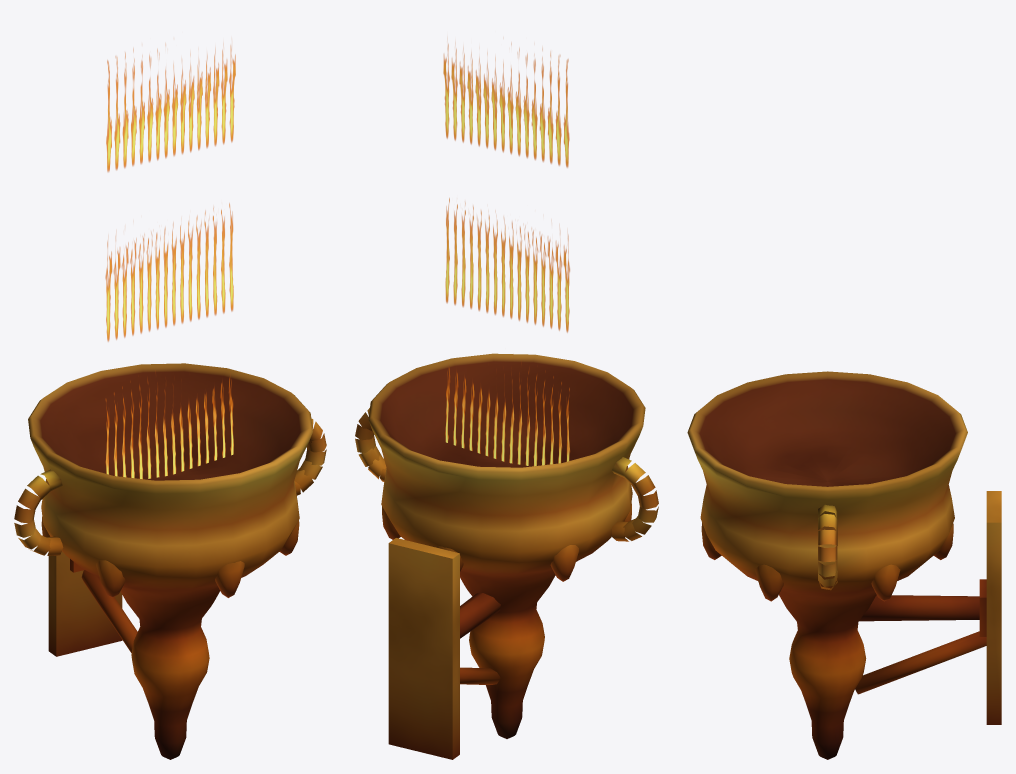
File: mm6_deco_sconce2.glb
3 renders of one model, left to right at view 1: azimuth 30°, elevation 25°; view 2: azimuth 150°, elevation 25°; view 3: azimuth 270°, elevation 25°, orthographic. The views are drawn at different scales.
Parts seen in each view (by area): view 1: Sconce2; view 2: Sconce2; view 3: Sconce2.
Boxes of the visible parts, x1,y1,x2,y2 form: Sconce2: (14,43,326,759); Sconce2: (355,43,658,759); Sconce2: (687,371,1001,759).
Bounding box in the file's own units: 0.6906 × 1.55 × 0.6193.
Materials: 3 (3 with a texture image).
